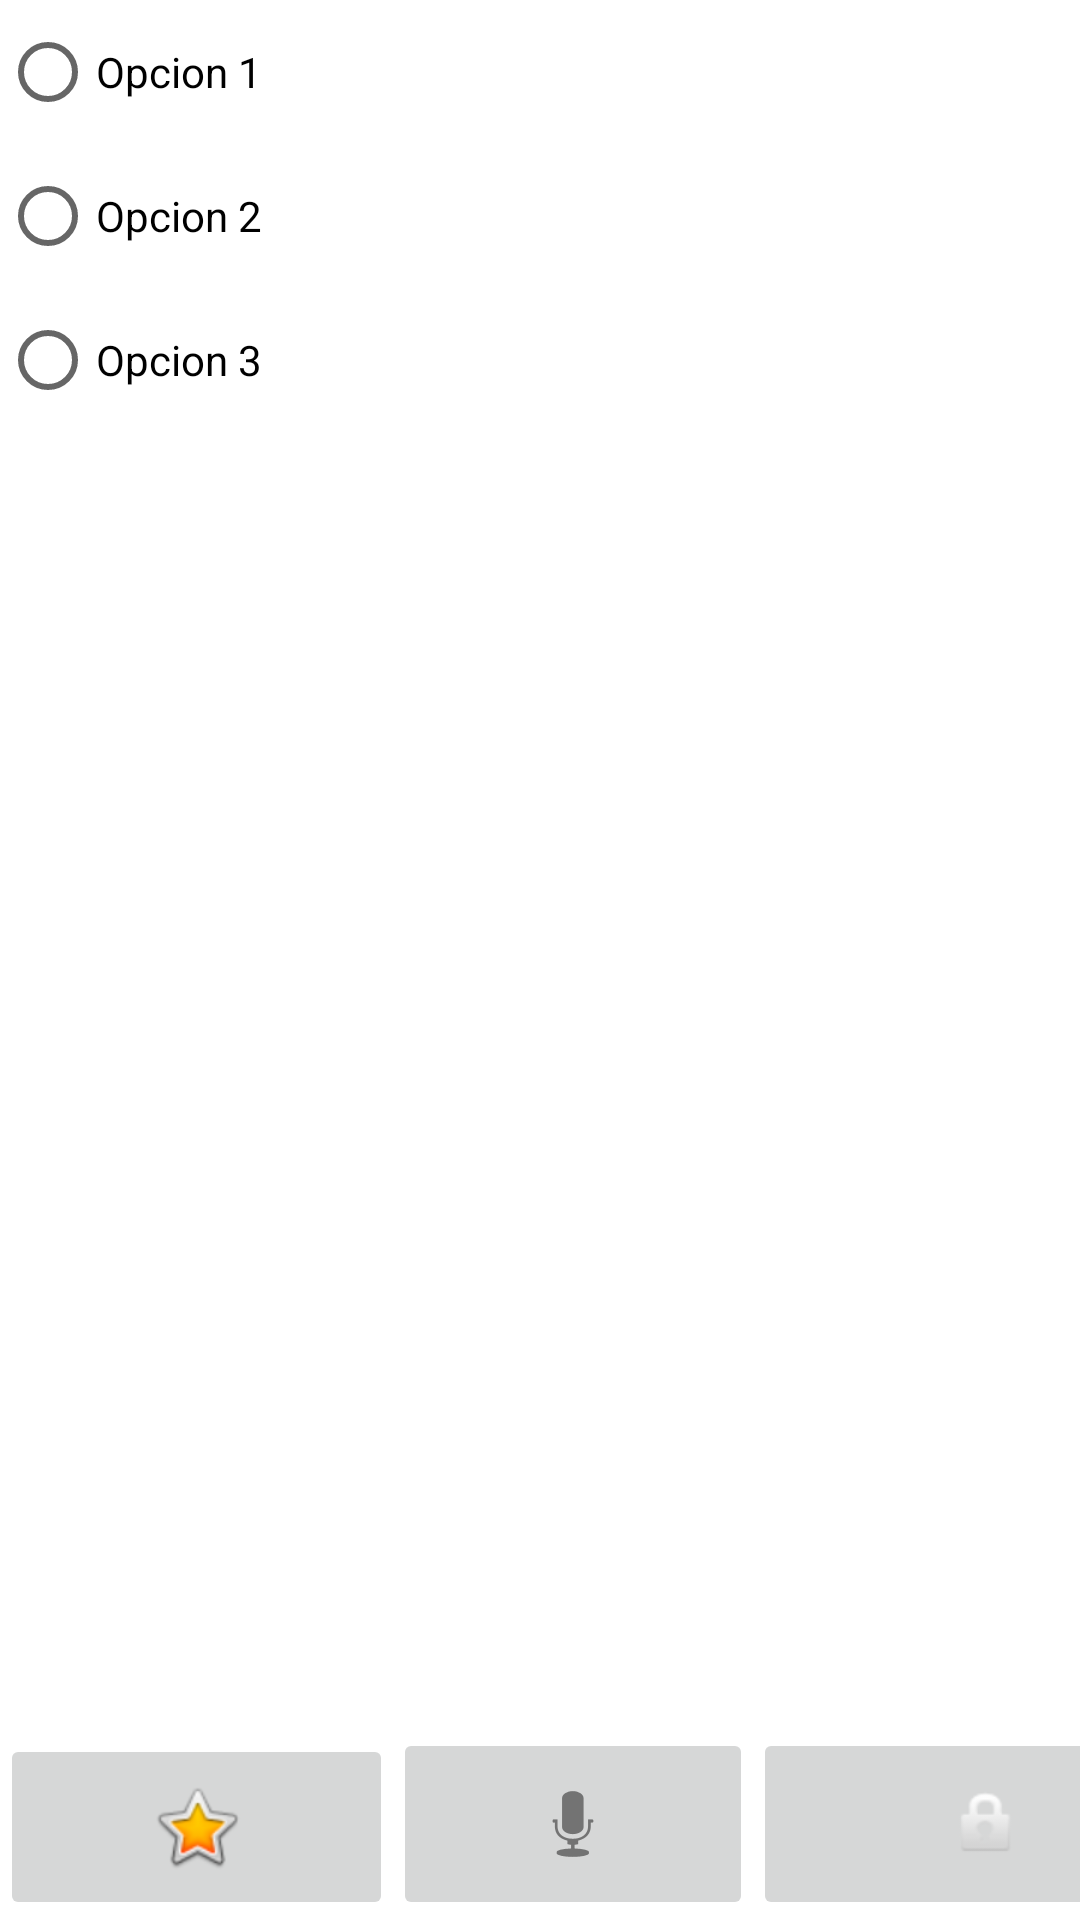

Icon click points for this 1080px x 1920px phone screenshot, format (x,y):
speak now: (573,1824)
